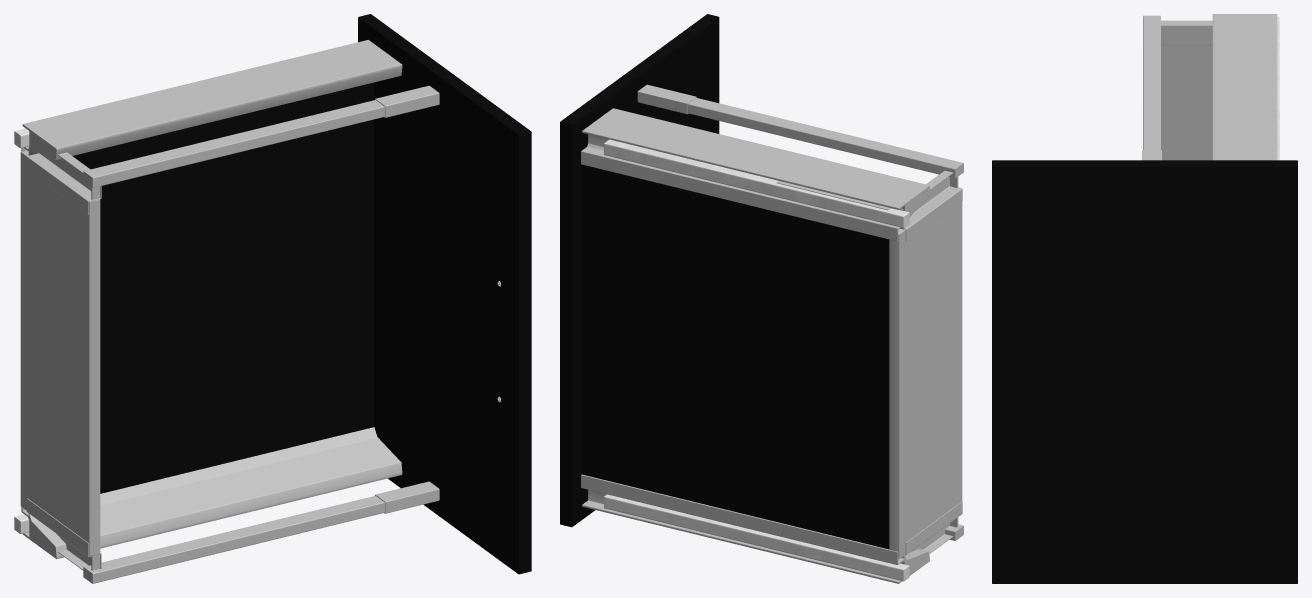
File: Kitchen09Drawer03.obj
3 views of the same model, side by side, from view 1: azimuth 30°, elevation 25°; view 2: azimuth 150°, elevation 25°; view 3: azimuth 270°, elevation 25° (orthographic). The views are drawn at different scales.
Visible parts, largest first — view 1: Kitchen09Drawer03; view 2: Kitchen09Drawer03; view 3: Kitchen09Drawer03.
Part boxes in pixels (x1,y1,x2,y2): Kitchen09Drawer03: [14, 14, 531, 583]; Kitchen09Drawer03: [560, 14, 963, 583]; Kitchen09Drawer03: [992, 14, 1297, 583].
Size of the model in its own units: 0.5199 by 0.5969 by 0.396.
Materials: 4 (1 with a texture image).
